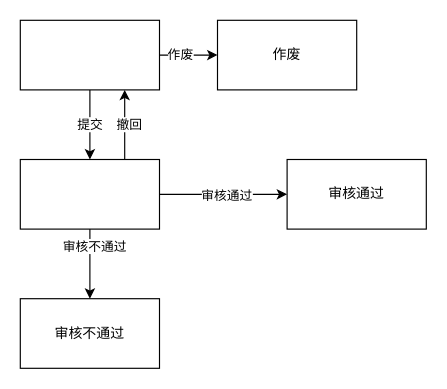
Some shapes in this 447 by 389 pixel diagram are drawn without their labels. Each missing label, with the box of its shape:
创建: (19, 19, 160, 90)
已提交: (19, 158, 160, 229)
